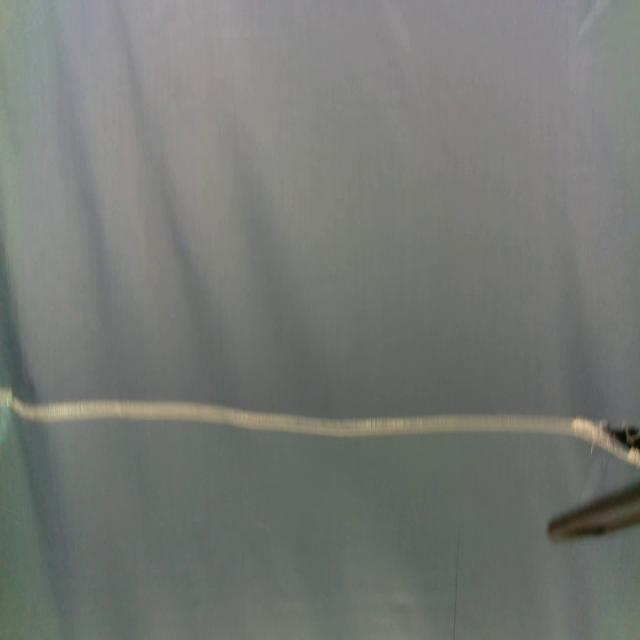crease: (451, 532, 462, 640)
hole: (607, 424, 640, 452)
